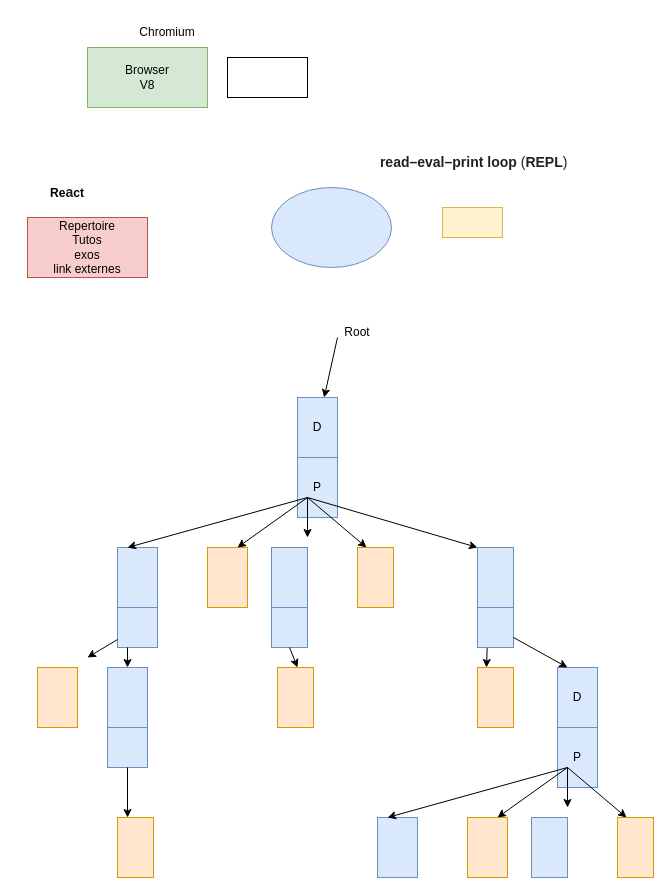
This 671x895 diagram has some shape labels left out. The shapes that lost their labels are listed below. From the top down, each one's centre as x and y in pixels, then its label:
the point at 267,77: Console
the point at 331,227: NodeJS V8
the point at 472,222: CLI
